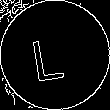L_N: (35, 28, 75, 82)
